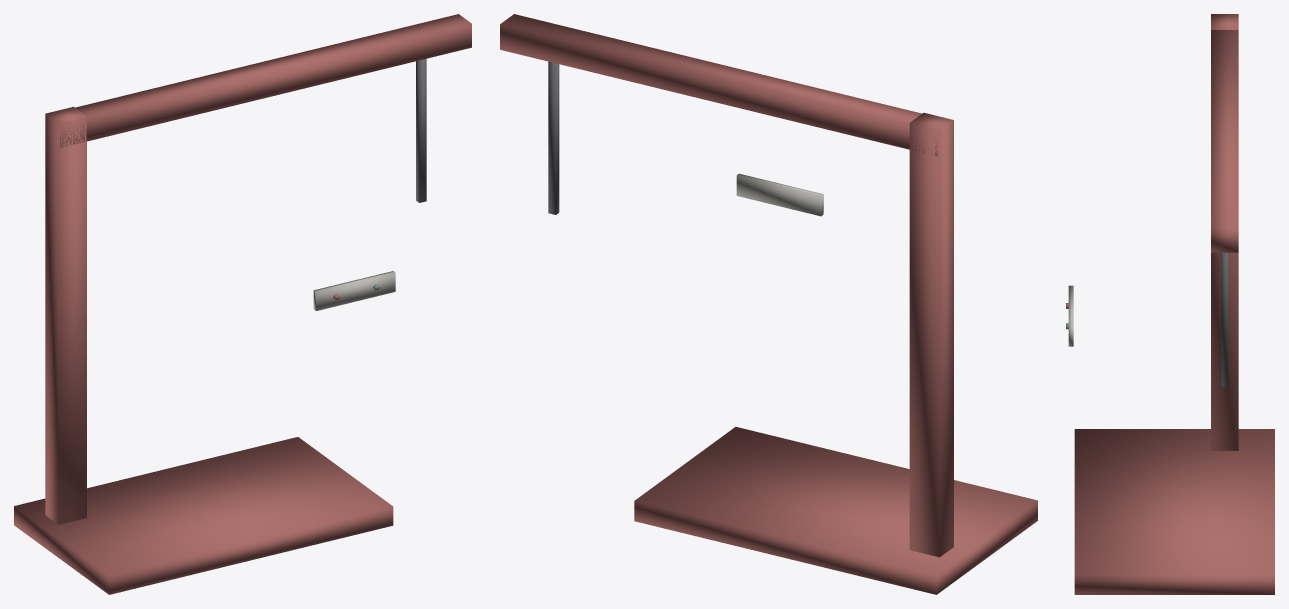
Rendered from engine_hoist__wide.glb.
3 renders of one model, left to right at view 1: azimuth 30°, elevation 25°; view 2: azimuth 150°, elevation 25°; view 3: azimuth 270°, elevation 25°, orthographic. The views are drawn at different scales.
Parts seen in each view (by area): view 1: world; view 2: world; view 3: world.
Boxes of the visible parts, x1,y1,x2,y2 form: world: [14, 14, 471, 594]; world: [500, 14, 1037, 594]; world: [1066, 14, 1274, 594].
Bounding box in the file's own units: 1.87 × 1.75 × 0.751.
